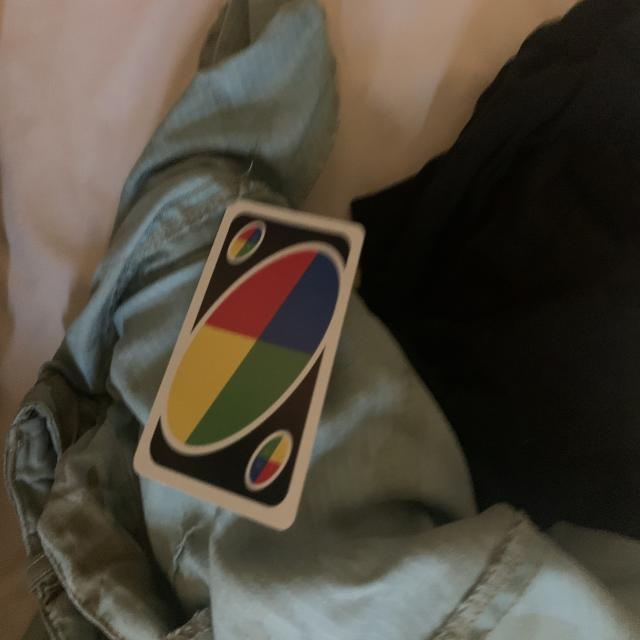lcolor-40: (224, 220, 268, 274)
